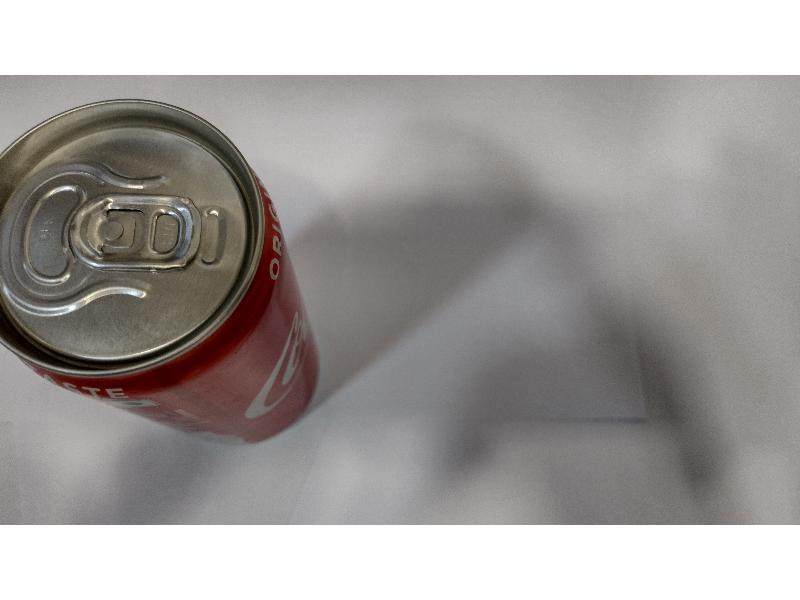can: (1, 102, 322, 449)
